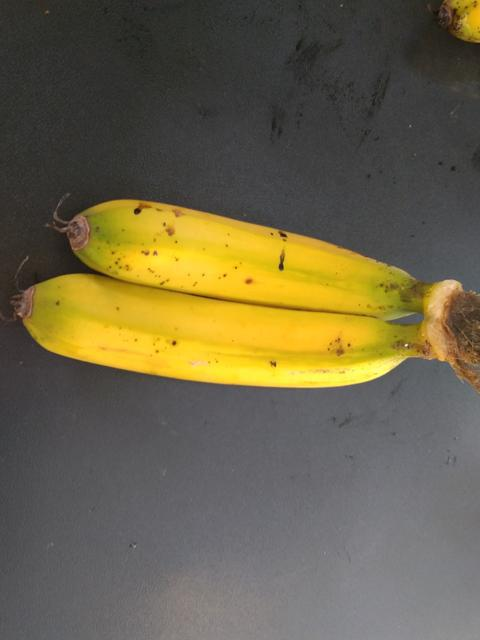freshripe: (18, 262, 411, 406)
ripe: (81, 190, 421, 312)
